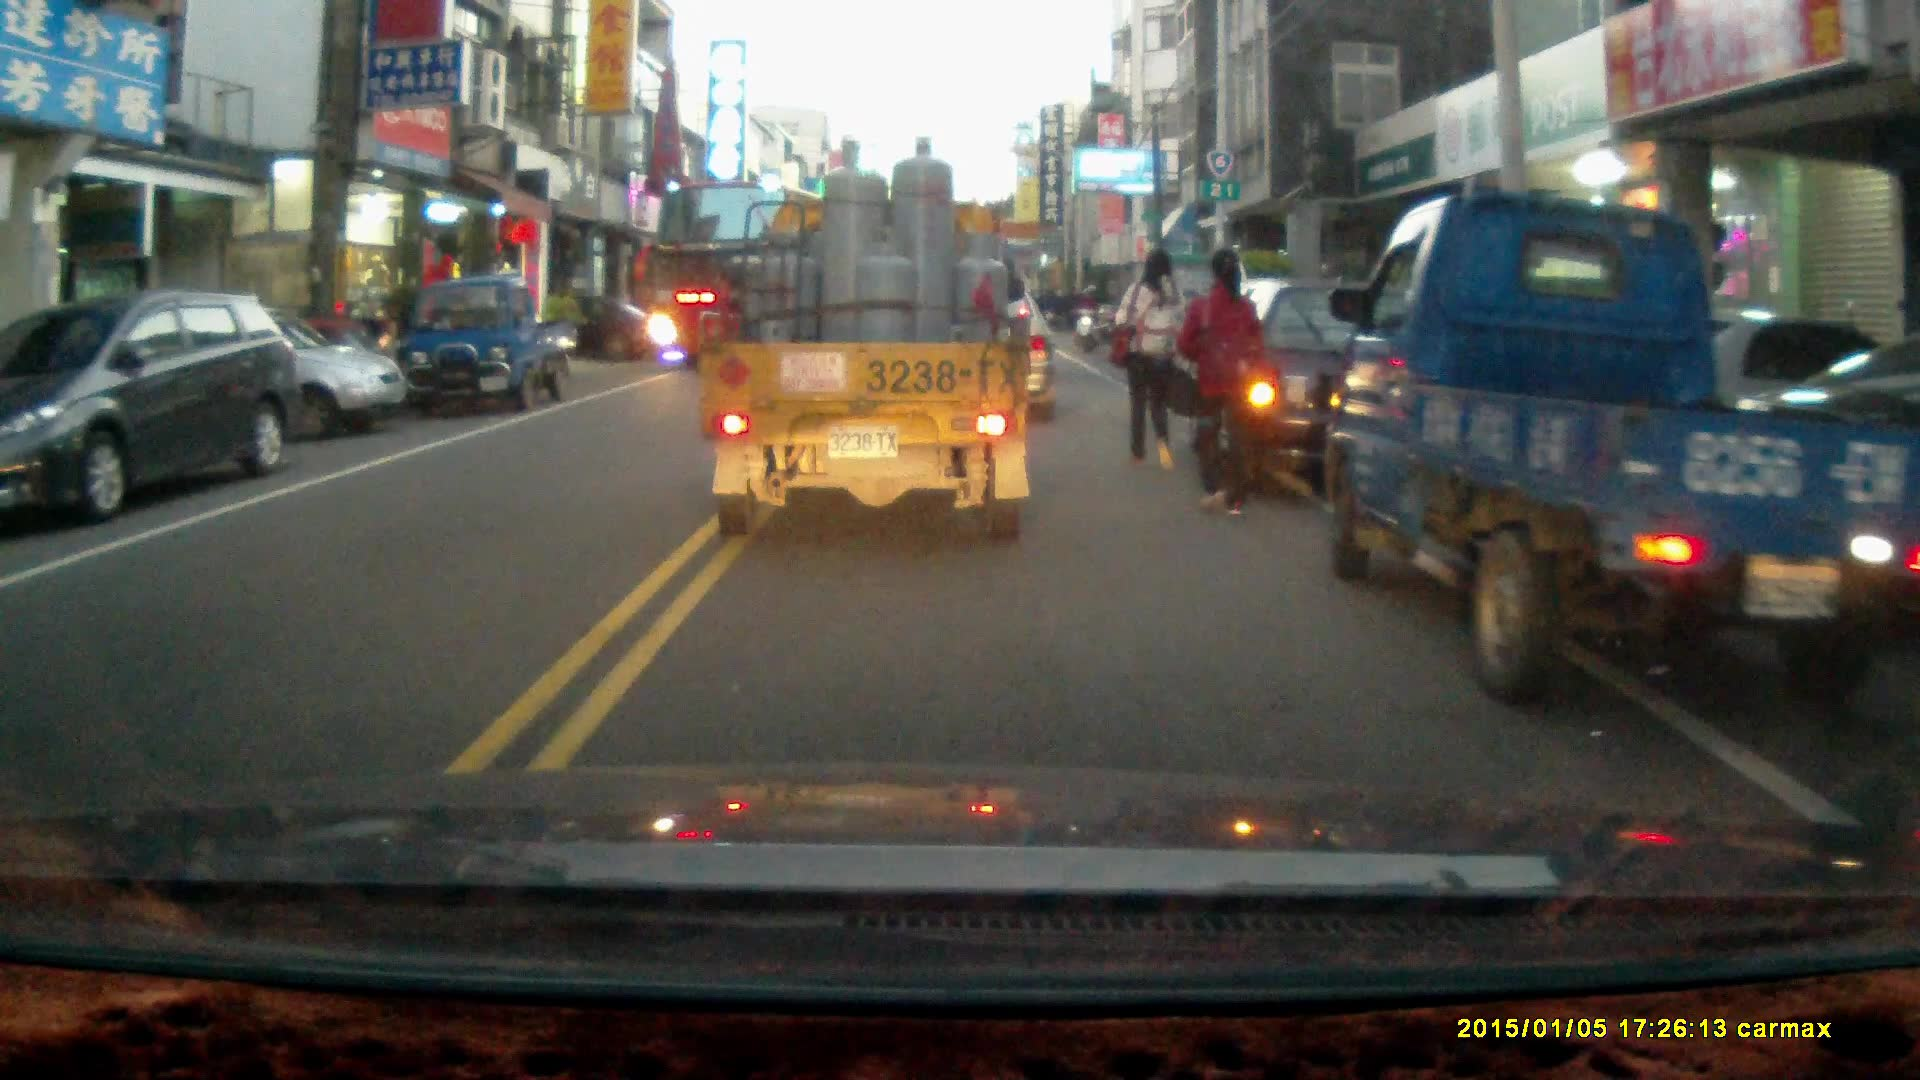pedestrian: (1172, 250, 1278, 519), (1110, 249, 1188, 474)
rider: (1074, 279, 1108, 350)
vehicle: (1328, 185, 1920, 719), (696, 129, 1039, 544), (3, 286, 299, 525), (1198, 277, 1483, 509), (94, 299, 414, 445), (642, 177, 877, 372), (404, 276, 570, 412)
